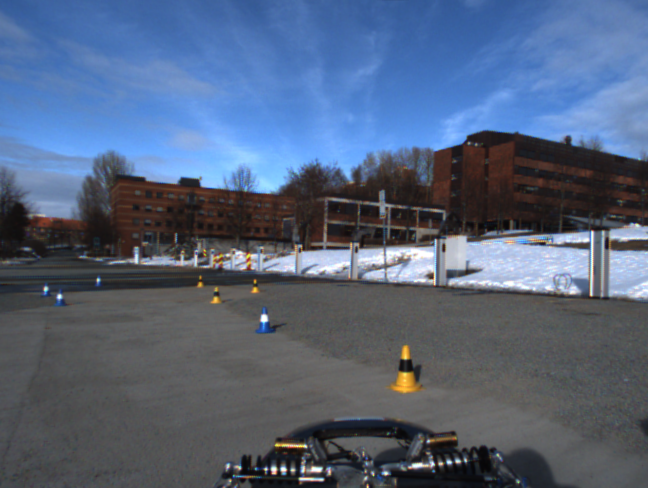cone-small-blue: (254, 307, 275, 334), (53, 289, 68, 306), (41, 282, 53, 297), (94, 274, 103, 288)
cone-small-yellow: (386, 345, 426, 394), (209, 286, 223, 304), (249, 279, 261, 293), (196, 275, 205, 289)
